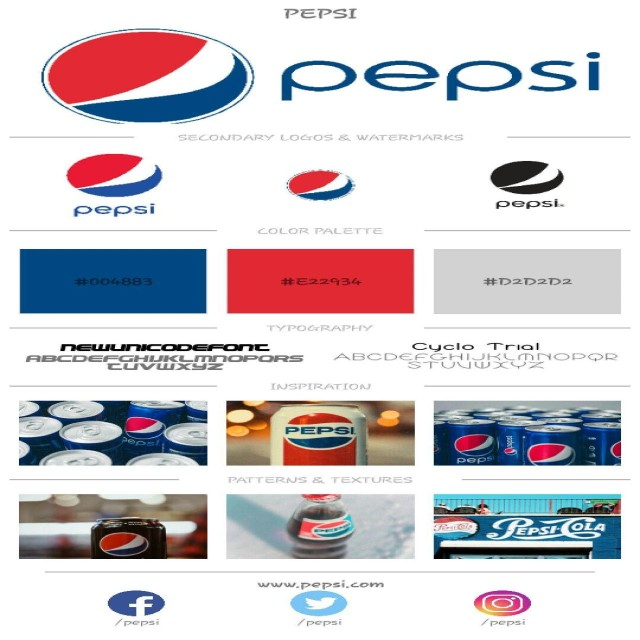pepsi: (38, 24, 262, 127), (66, 147, 176, 200), (279, 164, 362, 207), (451, 428, 504, 457)
